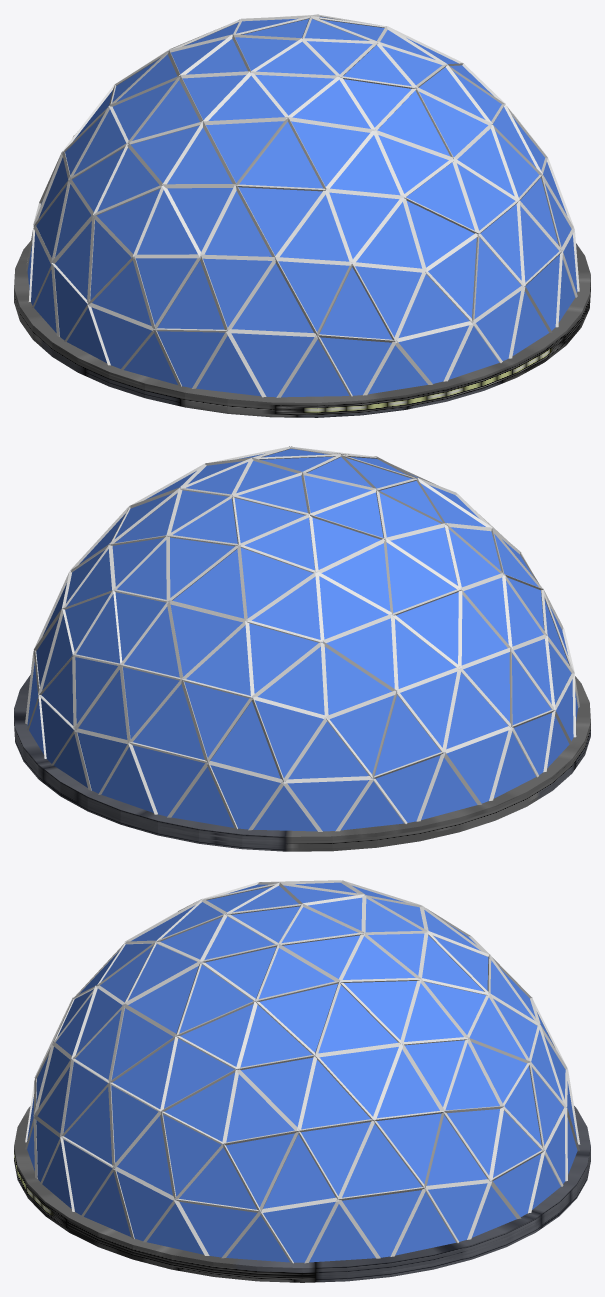
Rendered from BiodomeLP.obj.
The picture shows the model from 3 angles, top to bottom: view 1: azimuth 30°, elevation 25°; view 2: azimuth 150°, elevation 25°; view 3: azimuth 270°, elevation 25°; orthographic projection.
Visible parts, largest first — view 1: blueShade, silver, spanel3; view 2: blueShade, silver, spanel3; view 3: blueShade, silver, spanel3.
Part boxes in pixels (<box>): blueShade: <box>27,16,577,397</box>; silver: <box>26,14,579,397</box>; spanel3: <box>14,241,590,417</box>; blueShade: <box>27,449,577,831</box>; silver: <box>25,446,579,831</box>; spanel3: <box>14,675,590,851</box>; blueShade: <box>27,882,577,1262</box>; silver: <box>25,880,580,1263</box>; spanel3: <box>14,1106,590,1282</box>.
Size of the model in its own units: 248 by 141 by 248.
